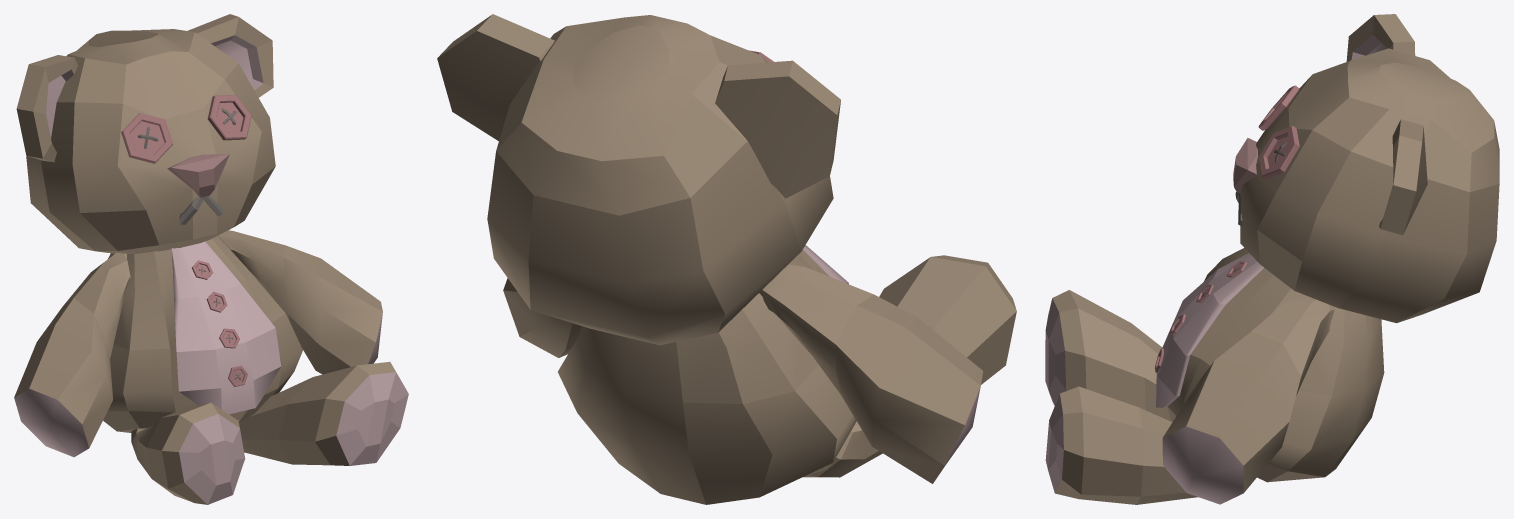
The model's file is UrsinhoPeluciaOption2.fbx.
The picture shows the model from 3 angles, left to right: view 1: azimuth 30°, elevation 25°; view 2: azimuth 150°, elevation 25°; view 3: azimuth 270°, elevation 25°; orthographic projection. The views are drawn at different scales.
Visible parts, largest first — view 1: UrsinhoPelucia; view 2: UrsinhoPelucia; view 3: UrsinhoPelucia.
Boxes of the visible parts, x1,y1,x2,y2 form: UrsinhoPelucia: (14, 14, 408, 504); UrsinhoPelucia: (437, 14, 1016, 504); UrsinhoPelucia: (1045, 14, 1499, 504).
Bounding box in the file's own units: 3.84 × 3.87 × 3.93.
